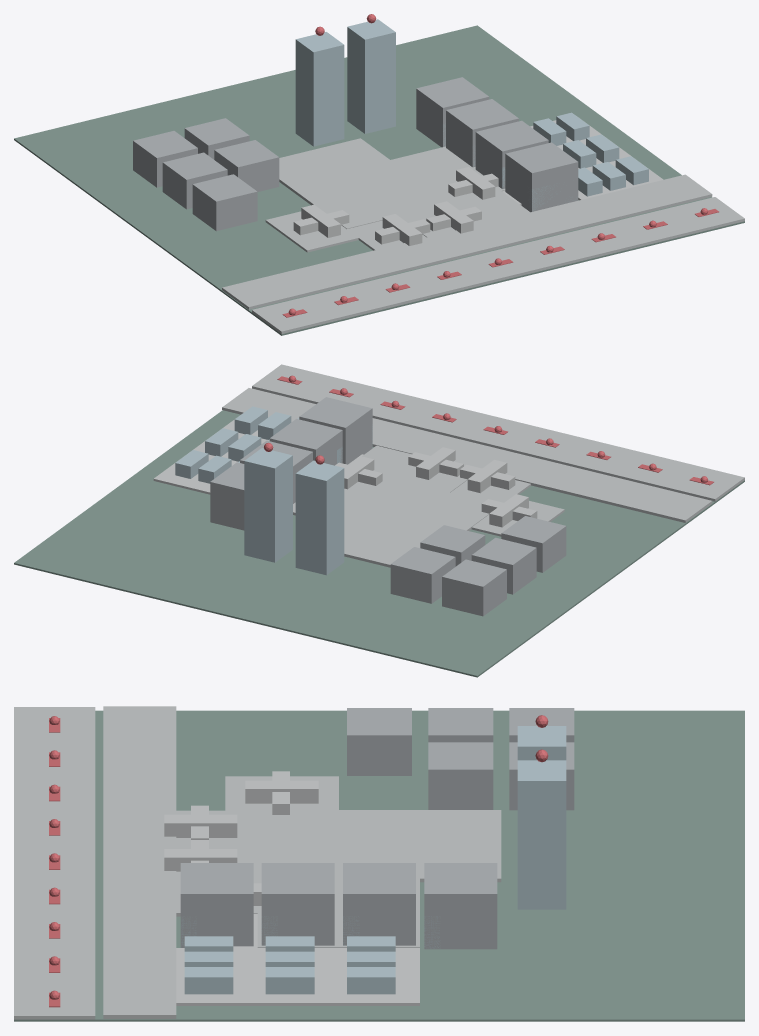
The model's file is stage_25.glb.
The picture shows the model from 3 angles, top to bottom: view 1: azimuth 30°, elevation 25°; view 2: azimuth 150°, elevation 25°; view 3: azimuth 270°, elevation 25°; orthographic projection. The views are drawn at different scales.
Parts seen in each view (by area): view 1: geometry_0; view 2: geometry_0; view 3: geometry_0.
Boxes of the visible parts, box(x1,y1,x2,y2) form: geometry_0: box(14, 14, 744, 335); geometry_0: box(14, 364, 744, 677); geometry_0: box(14, 706, 744, 1021).
Size of the model in its own units: 9 by 2.06 by 9.
